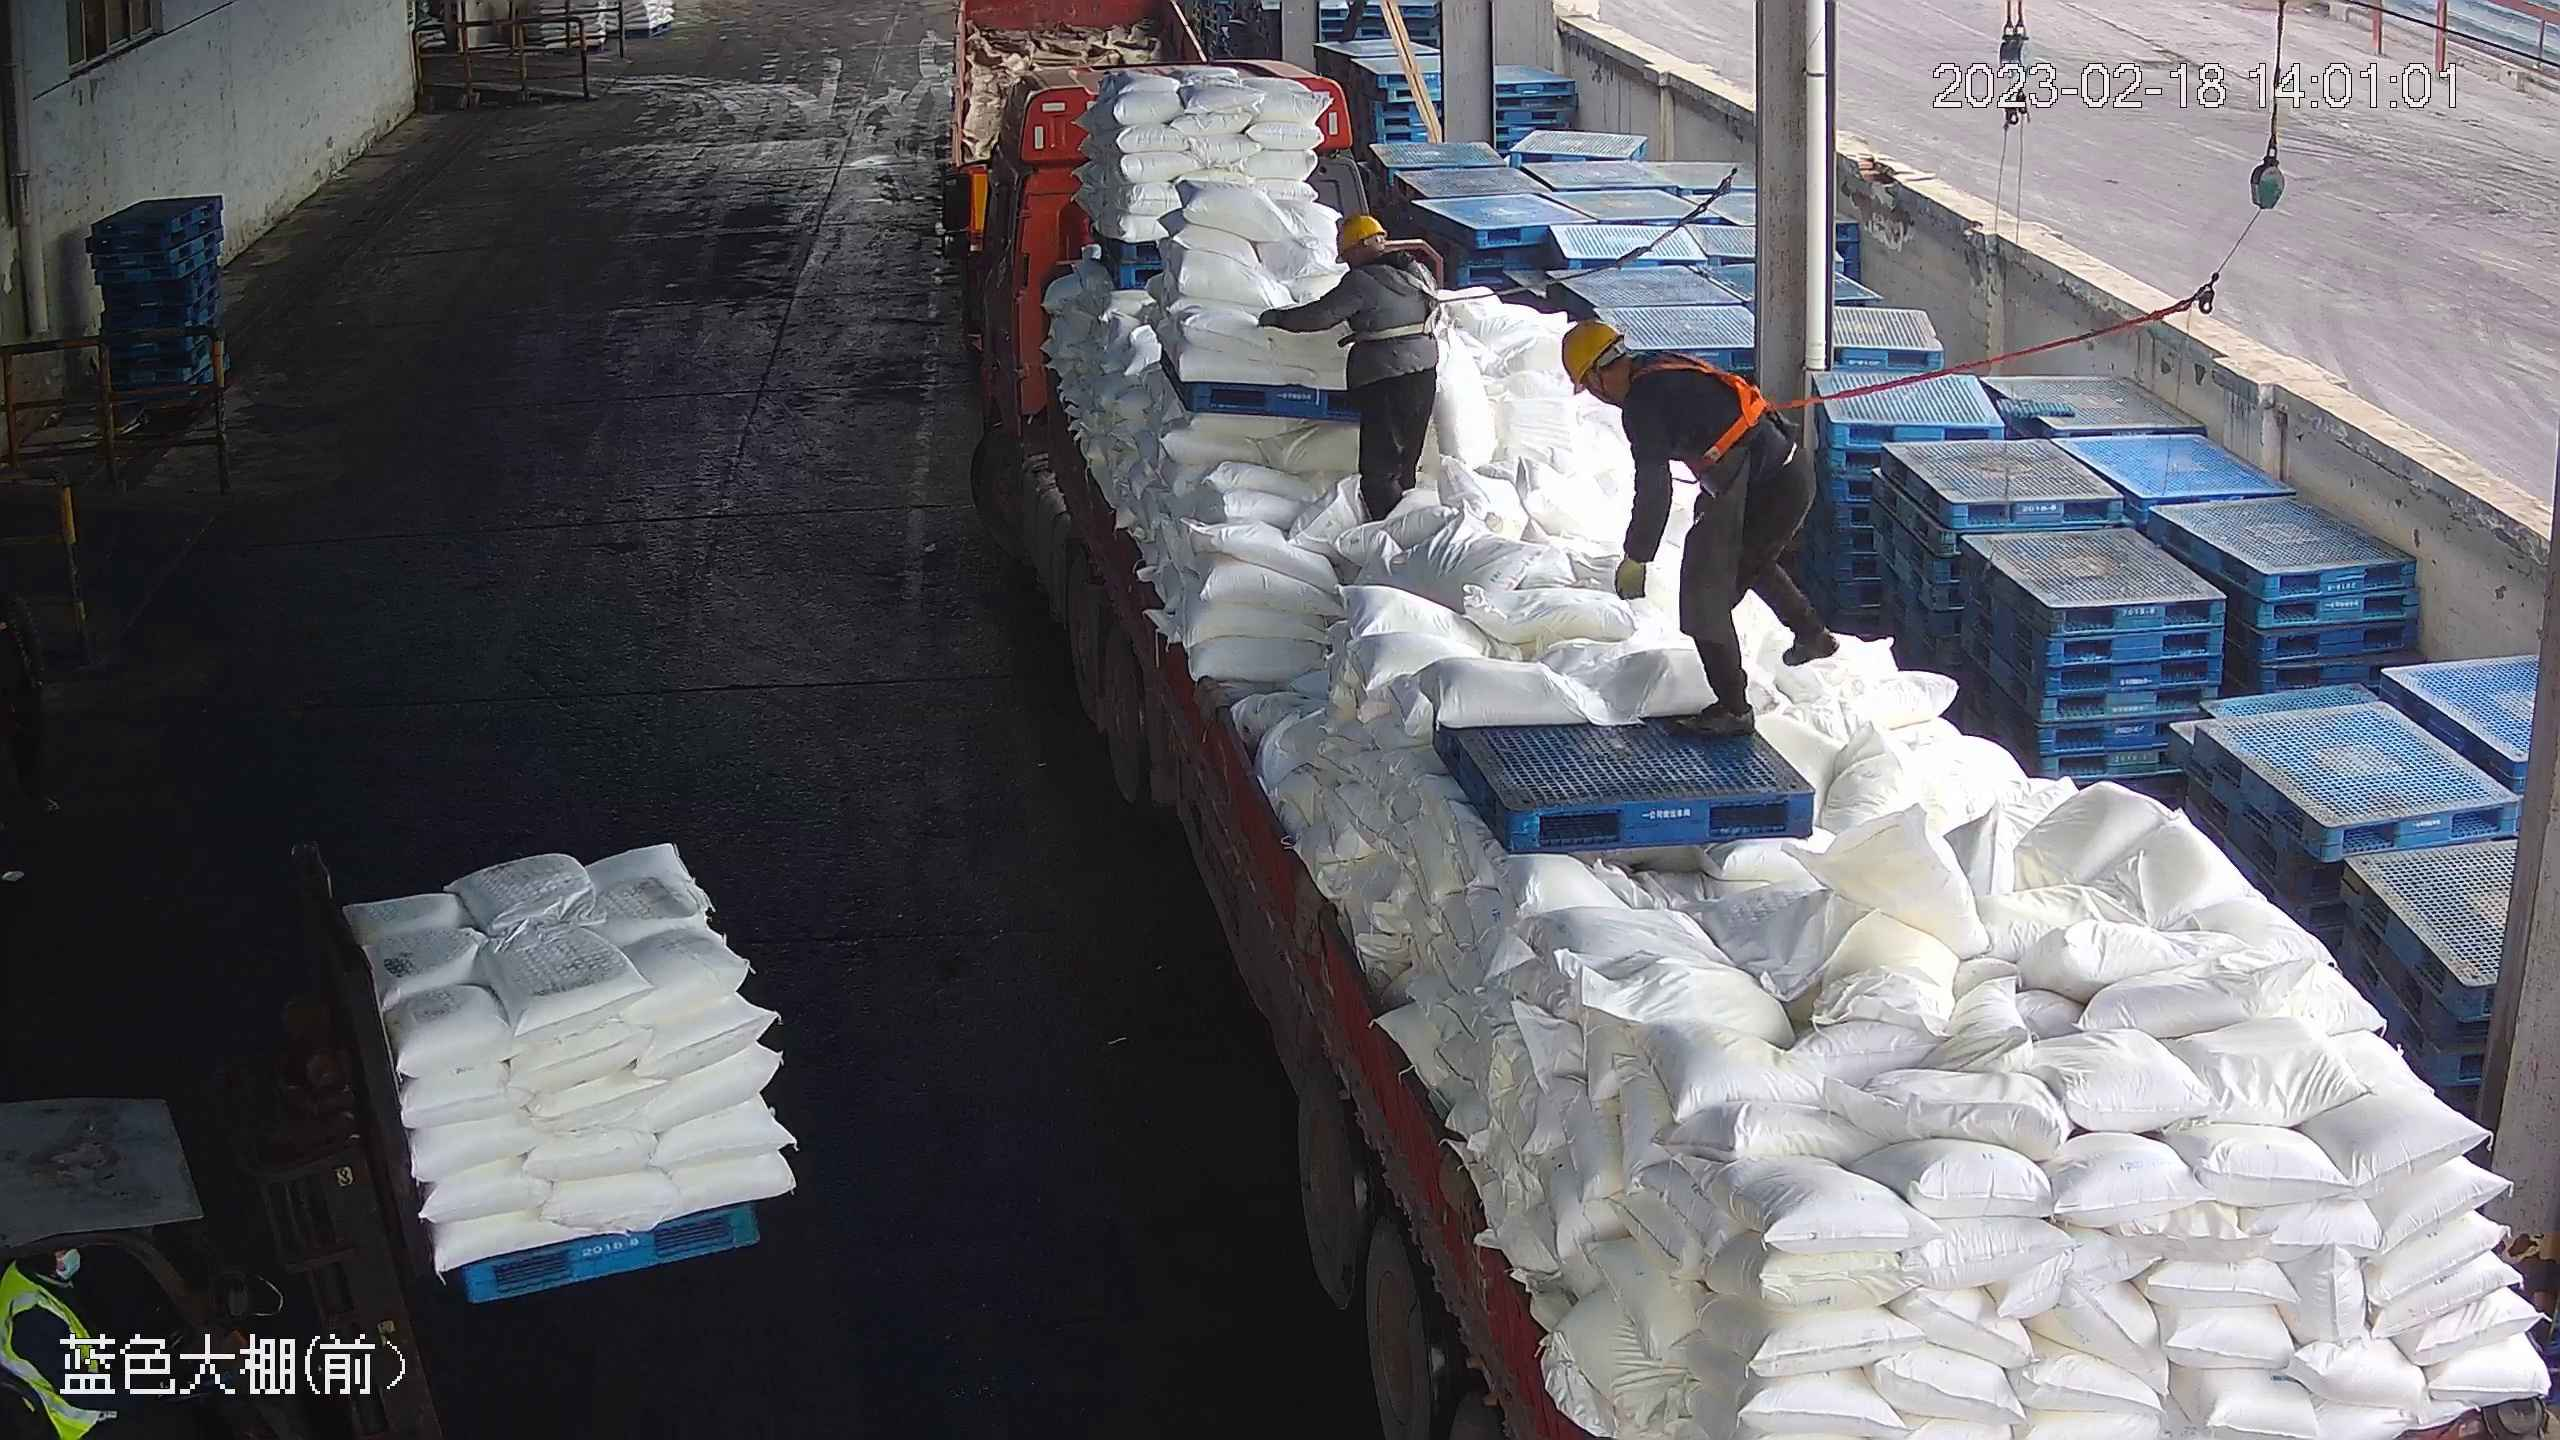belt: (1632, 351, 1813, 474), (1343, 261, 1469, 344)
head: (1560, 319, 1703, 436), (1330, 214, 1441, 304)
helmet: (1561, 318, 1625, 394), (1333, 214, 1386, 265)
people: (1560, 318, 1844, 741), (1258, 212, 1443, 525)
truck: (982, 83, 2560, 1440)
